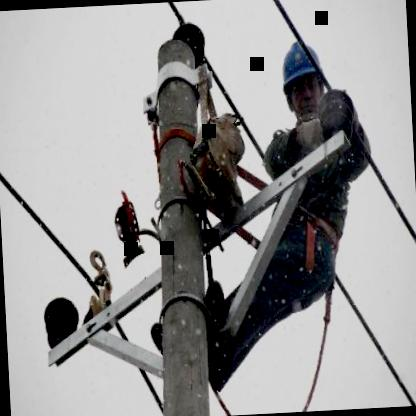helmet: (275, 30, 335, 128)
